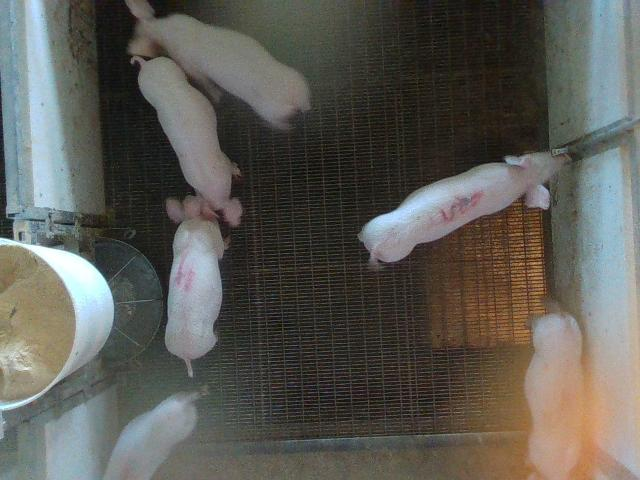pig-1: (525, 312, 582, 478)
pig-3: (359, 152, 571, 263)
pig-4: (165, 195, 225, 376)
